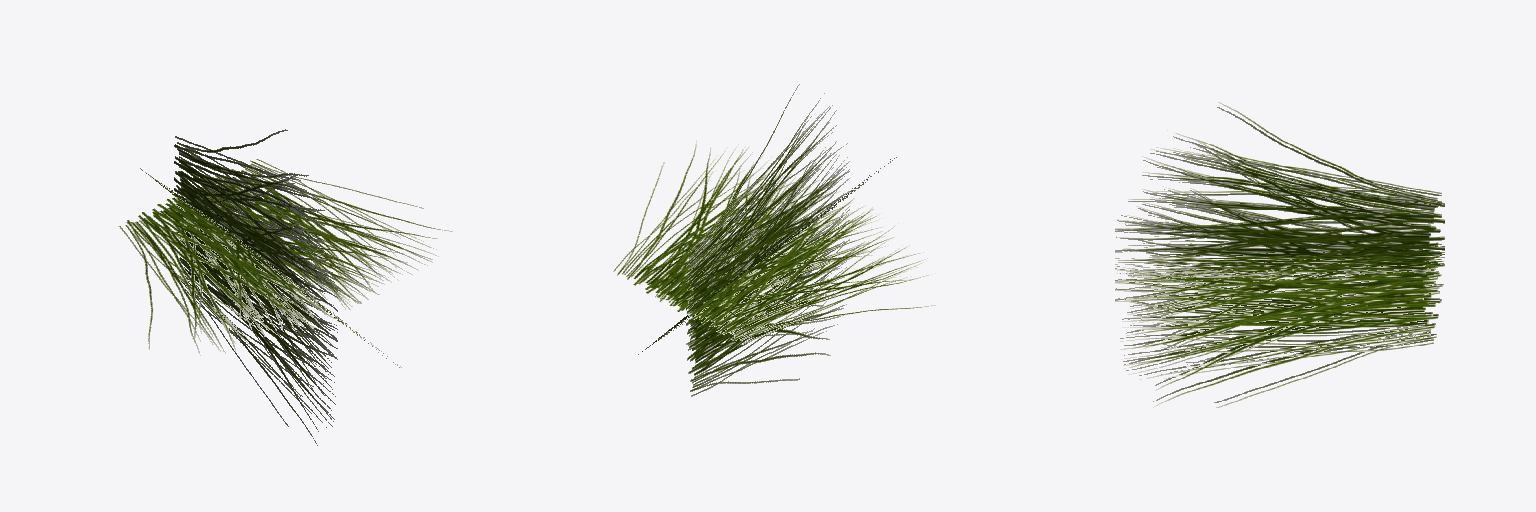
The picture shows the model from 3 angles: view 1: azimuth 30°, elevation 25°; view 2: azimuth 150°, elevation 25°; view 3: azimuth 270°, elevation 25°; orthographic projection.
Parts seen in each view (by area): view 1: grass_Plane.004; view 2: grass_Plane.004; view 3: grass_Plane.004.
Part boxes in pixels (x1,y1,x2,y2): grass_Plane.004: (118,129,452,445); grass_Plane.004: (613,84,935,396); grass_Plane.004: (1115,102,1444,407).
Bounding box in the file's own units: 1.93 × 2 × 2.
Materials: 1 (1 with a texture image).